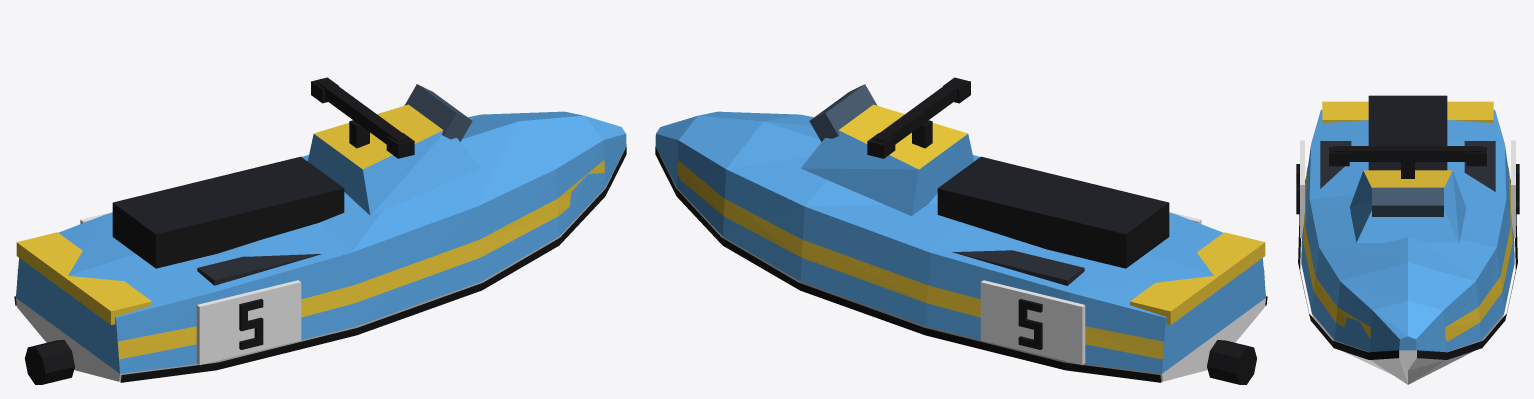
The model's file is jetski_oro_cielo_body.obj.
The picture shows the model from 3 angles, left to right: view 1: azimuth 30°, elevation 25°; view 2: azimuth 150°, elevation 25°; view 3: azimuth 270°, elevation 25°; orthographic projection. The views are drawn at different scales.
Visible parts, largest first — view 1: jetski_oro_cielo_body; view 2: jetski_oro_cielo_body; view 3: jetski_oro_cielo_body.
Boxes of the visible parts, bbox=[...] form: jetski_oro_cielo_body: bbox=[14, 77, 626, 384]; jetski_oro_cielo_body: bbox=[655, 77, 1267, 384]; jetski_oro_cielo_body: bbox=[1296, 95, 1519, 384].
Size of the model in its own units: 3.58 by 1.85 by 1.3.
